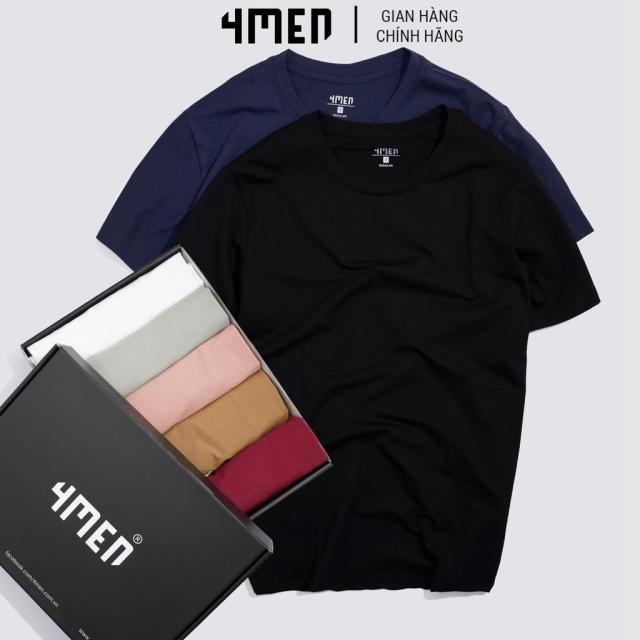Shirt: (175, 111, 606, 598)
